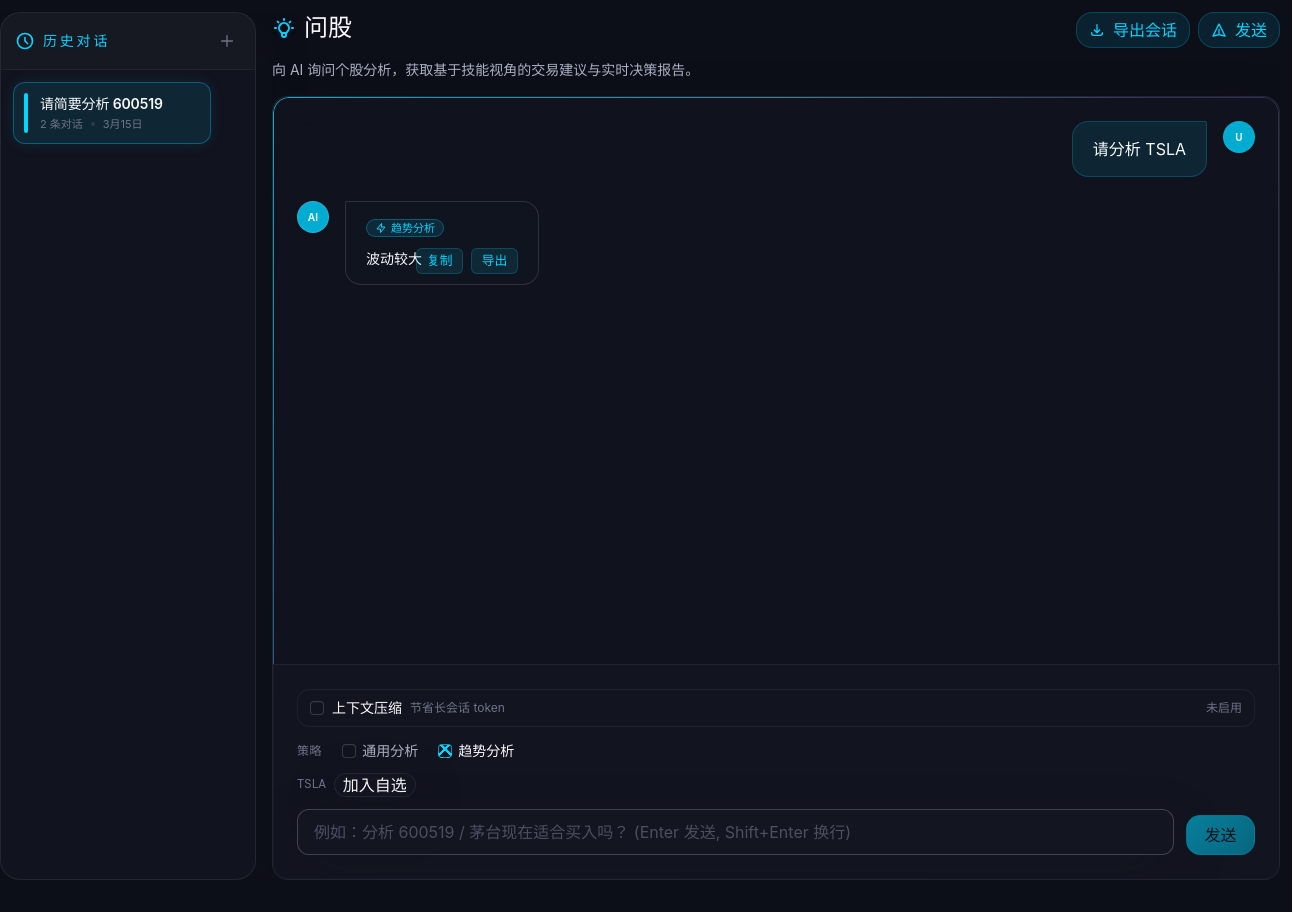
ChatPage › prevents duplicate notification sends while the request is in flight
The image size is (1292, 912).
Click the button with aria-label "发送到已配置的通知机器人/邮箱" at (1239, 30), box x1=1198 y1=12 x2=1280 y2=48
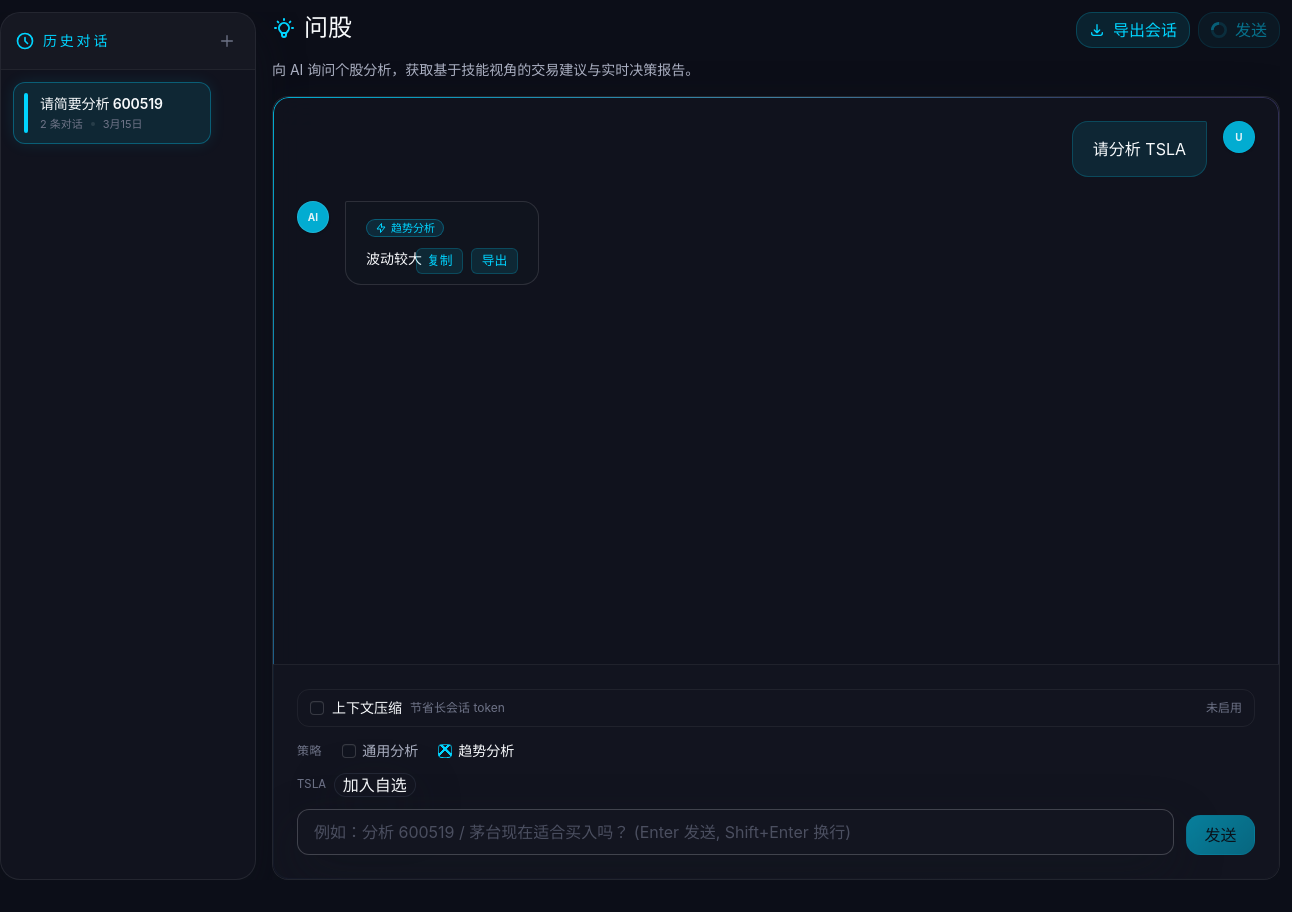
Check: the button with aria-label "发送到已配置的通知机器人/邮箱" is disabled
Click the button with aria-label "发送到已配置的通知机器人/邮箱" at (1239, 30), box x1=1198 y1=12 x2=1280 y2=48
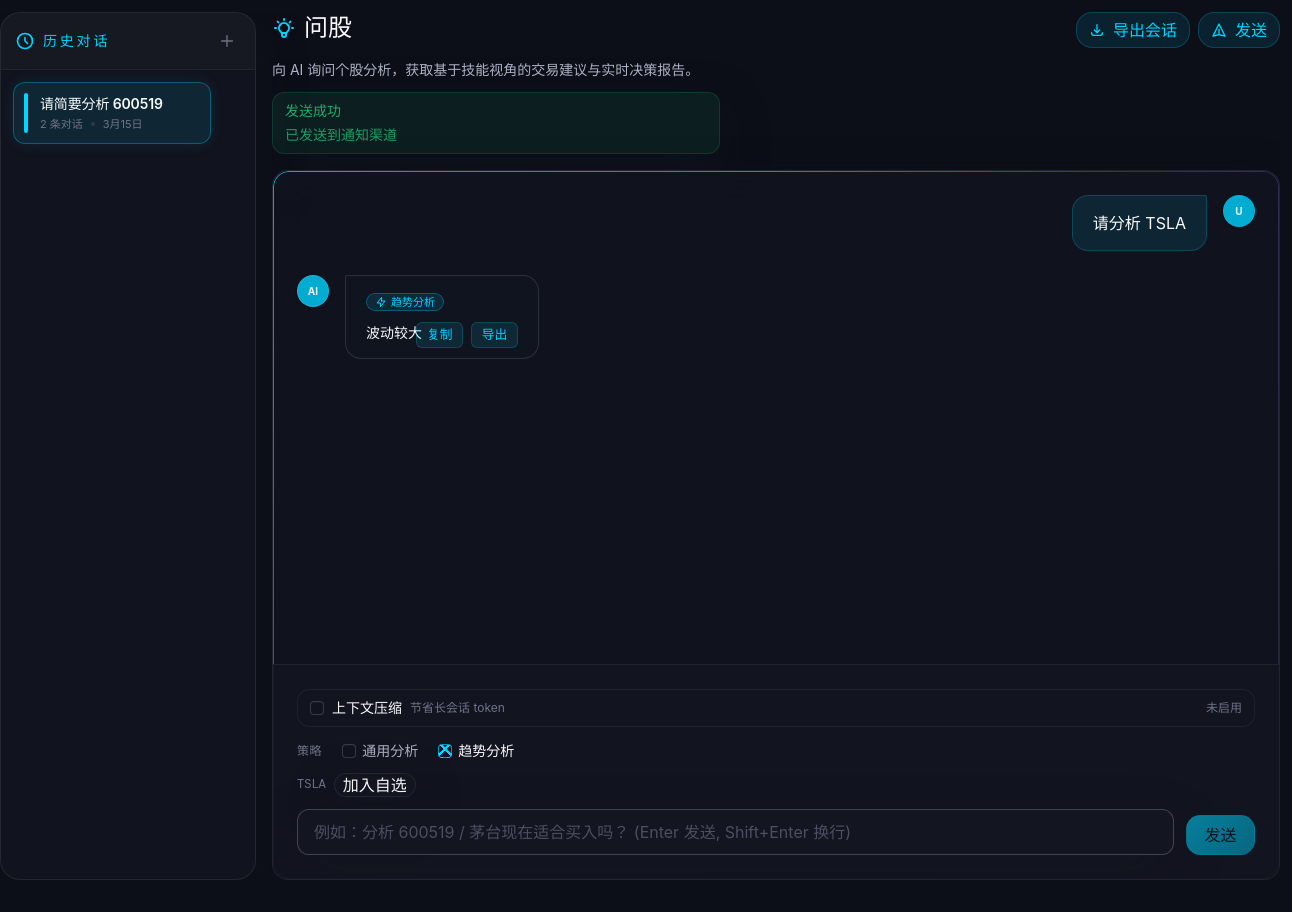
Check: the button with aria-label "发送到已配置的通知机器人/邮箱" is enabled, box x1=1198 y1=12 x2=1280 y2=48
